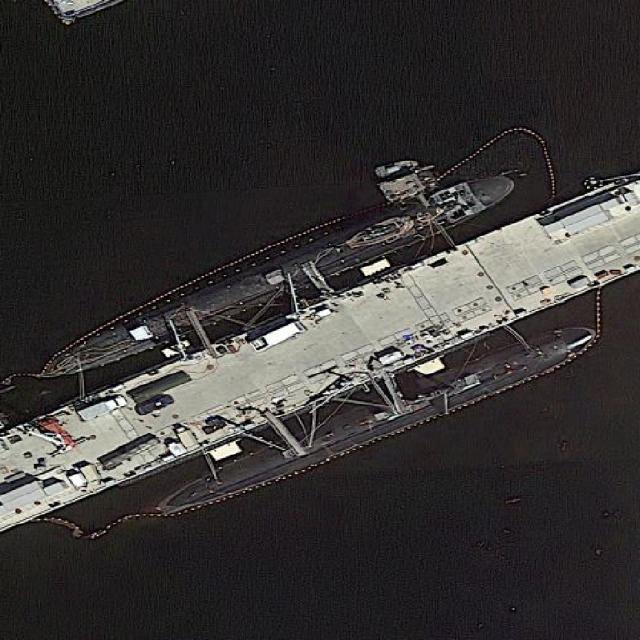Submarine: (27, 153, 521, 394), (149, 313, 604, 531)
